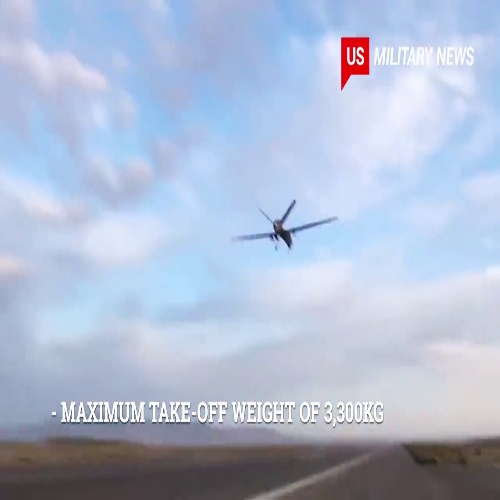uav353: (234, 196, 338, 252)
